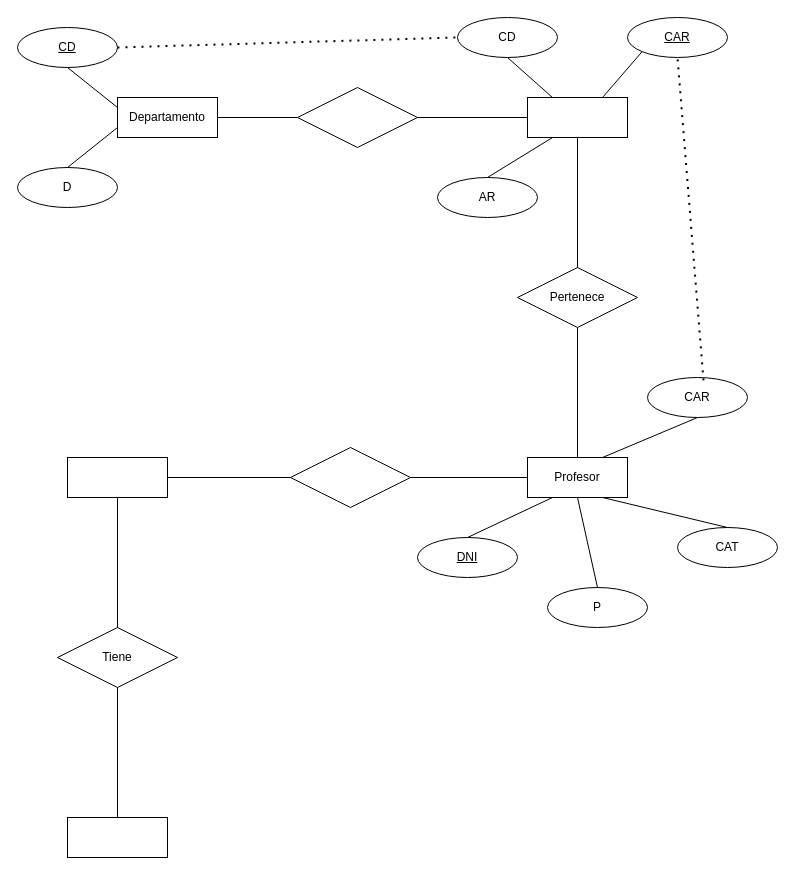
Some shapes in this 795 by 875 pixel diagram are drawn without their labels. Here are the shapes that lost their labels. From the top down, the centre of each, then its label:
At (357,117): "Posee".
At (577,117): "Área".
At (117,477): "Asignatura".
At (350,477): "Imparte".
At (117,837): "Plan_Docente".
